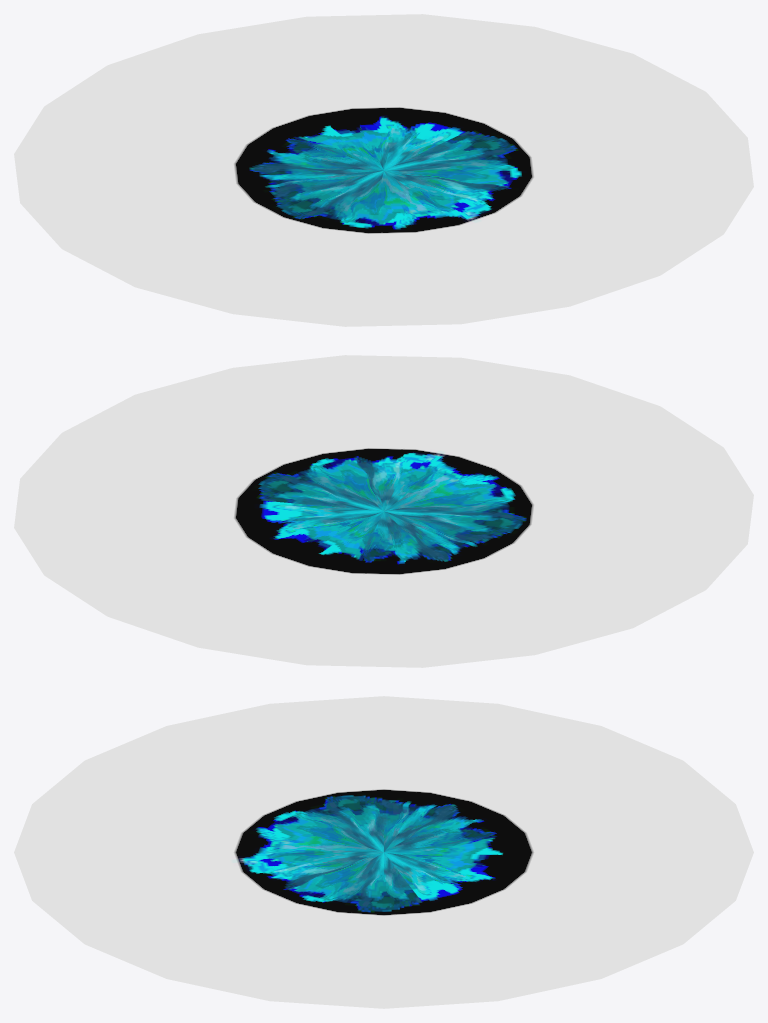
The model's file is Disc_test.fbx.
3 renders of one model, top to bottom at view 1: azimuth 30°, elevation 25°; view 2: azimuth 150°, elevation 25°; view 3: azimuth 270°, elevation 25°, orthographic.
Parts seen in each view (by area): view 1: VFX_disc; view 2: VFX_disc; view 3: VFX_disc.
Boxes of the visible parts, x1,y1,x2,y2 form: VFX_disc: (14,14,753,326); VFX_disc: (14,355,753,667); VFX_disc: (14,696,753,1008).
Bounding box in the file's own units: 331 × 0.00166 × 331.
